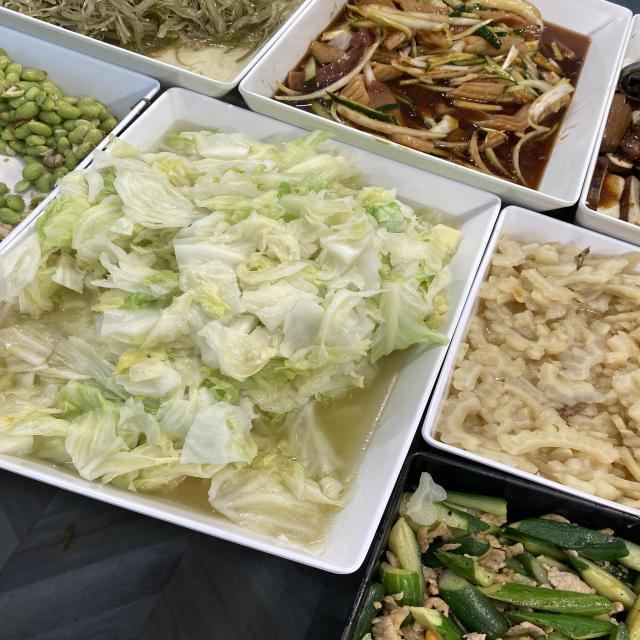bitter gourd: (513, 286, 633, 454)
cabbage: (84, 175, 381, 415)
